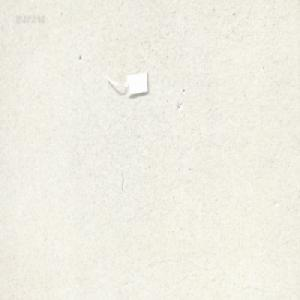LuggageTag: (102, 68, 150, 99)
